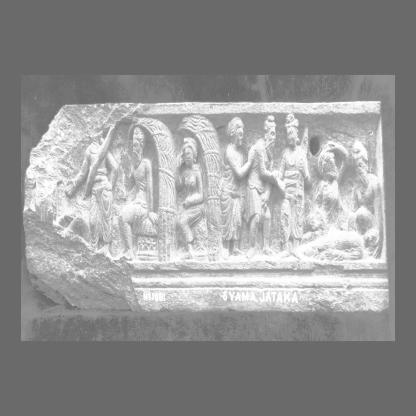buddha-standing: (277, 113, 311, 258)
